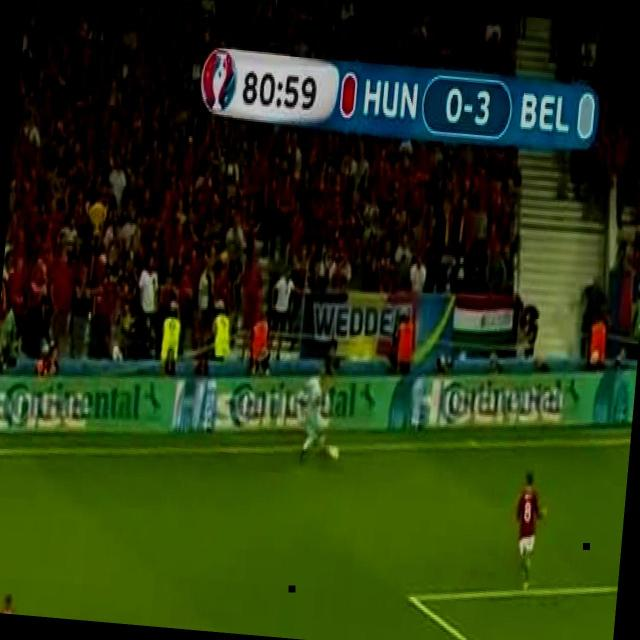ball: (329, 441, 339, 461)
player-white: (508, 470, 550, 594), (293, 365, 333, 461), (0, 590, 33, 616)
